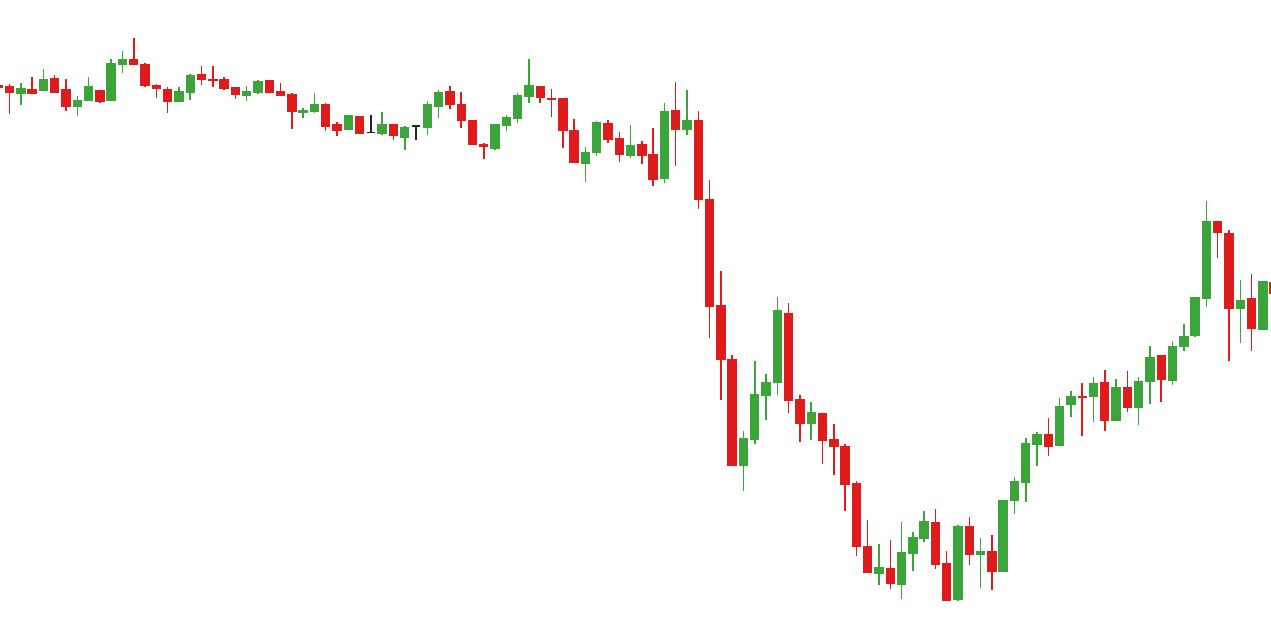buy: (884, 532, 966, 605)
sell: (433, 59, 547, 130), (590, 83, 681, 155)
